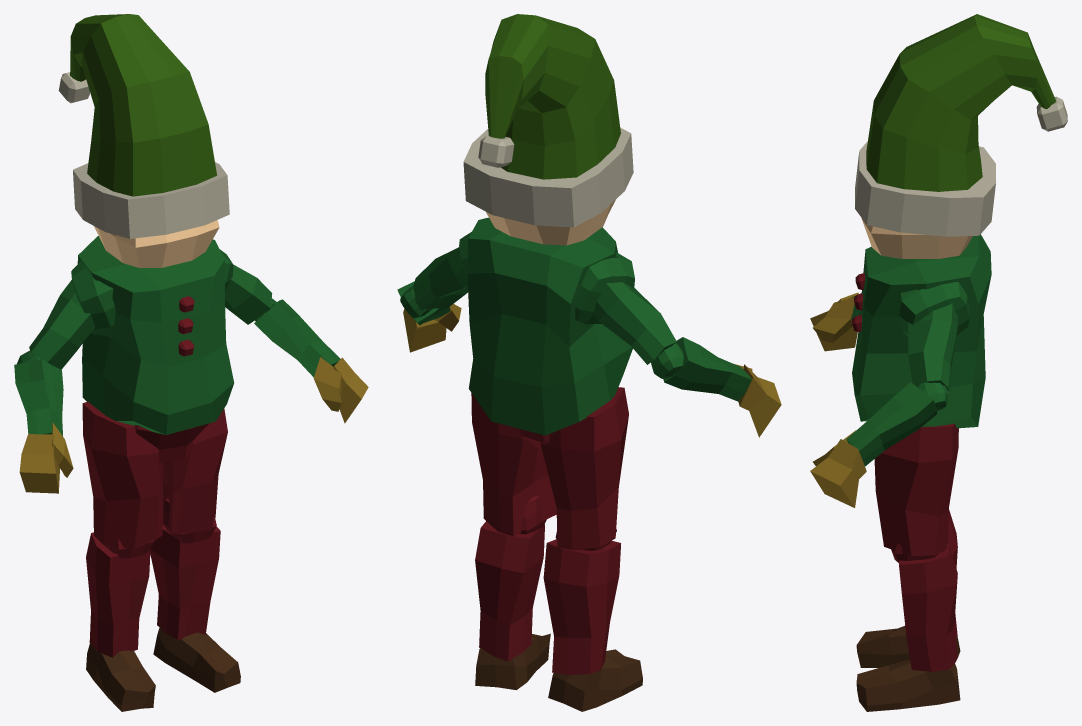
Rendered from knome80.fbx.
3 views of the same model, side by side, from view 1: azimuth 30°, elevation 25°; view 2: azimuth 150°, elevation 25°; view 3: azimuth 270°, elevation 25° (orthographic). The views are drawn at different scales.
Parts seen in each view (by area): view 1: Cube, Cube.016, Cube.004, Cube.001, Cube.015, Cube.009, Cube.002, Cube.003, Cube.014, Cube.010, Cube.008, Cube.011 (+3 smaller); view 2: Cube, Cube.016, Cube.004, Cube.001, Cube.015, Cube.003, Cube.009, Cube.002, Cube.010, Cube.008, Cube.014, Cube.006 (+2 smaller); view 3: Cube.016, Cube, Cube.004, Cube.015, Cube.001, Cube.009, Cube.002, Cube.003, Cube.010, Cube.014, Cube.008, Cube.011 (+2 smaller).
Part boxes in pixels (x1,y1,x2,y2): Cube: (77, 236, 234, 434); Cube.016: (70, 14, 216, 196); Cube.004: (82, 401, 227, 549); Cube.001: (86, 525, 220, 657); Cube.015: (73, 162, 229, 238); Cube.009: (86, 626, 240, 711); Cube.002: (14, 299, 340, 435); Cube.003: (29, 265, 272, 369); Cube.014: (94, 220, 219, 267); Cube.010: (19, 357, 368, 493); Cube.008: (71, 249, 233, 336); Cube.011: (52, 357, 342, 477); Cube: (467, 217, 632, 435); Cube.016: (485, 14, 620, 179); Cube.004: (471, 387, 628, 550); Cube.001: (475, 521, 620, 674); Cube.015: (463, 127, 633, 227); Cube.003: (413, 247, 676, 364); Cube.009: (475, 633, 642, 711); Cube.002: (397, 281, 751, 401); Cube.010: (403, 308, 781, 437); Cube.008: (459, 232, 634, 324); Cube.014: (486, 199, 615, 245); Cube.006: (400, 285, 683, 378); Cube.016: (866, 14, 1056, 191); Cube: (852, 234, 991, 431); Cube.004: (874, 423, 958, 556); Cube.015: (855, 141, 995, 236); Cube.001: (899, 510, 957, 671); Cube.009: (856, 626, 960, 711); Cube.002: (846, 293, 937, 466); Cube.003: (908, 303, 957, 390); Cube.010: (810, 292, 866, 507); Cube.014: (861, 218, 972, 258); Cube.008: (898, 282, 969, 336); Cube.011: (813, 297, 855, 465).
Bounding box in the file's own units: 76.84 × 136 × 48.07.
